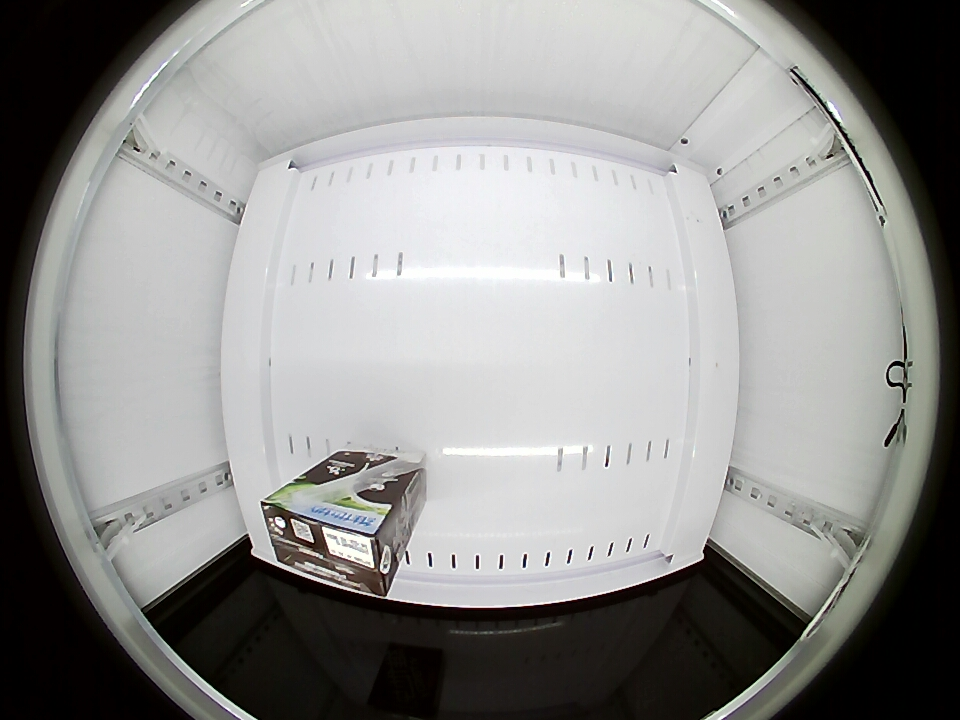weitanai2: (259, 483, 404, 596)
